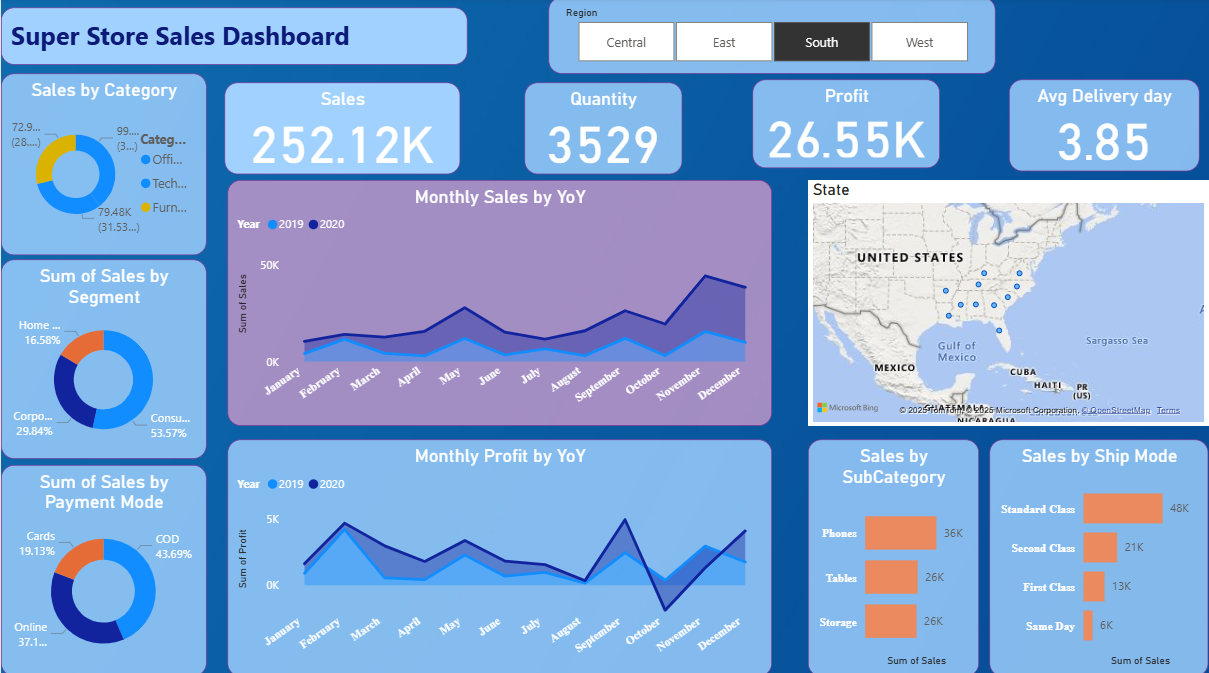

This screenshot's page, from the dashboard's own definition file:
{"tool":"powerbi","page":{"name":"Page 1","canvas":[1280,720],"ordinal":0},"visuals":[{"type":"donutChart","title":" Sales by Category","fields":{"Category":["SuperStore_Sales_Dataset (1).Category"],"Y":["Sum(SuperStore_Sales_Dataset (1).Sales)"]},"box":[0,81.1,217.9,192.5],"z":0},{"type":"clusteredBarChart","title":"Sales by SubCategory","fields":{"Category":["SuperStore_Sales_Dataset (1).Sub-Category","SuperStore_Sales_Dataset (1).Category"],"Y":["Sum(SuperStore_Sales_Dataset (1).Sales)"]},"box":[855.7,469.2,181.3,251.3],"z":1000},{"type":"clusteredBarChart","title":"Sales by Ship Mode","fields":{"Category":["SuperStore_Sales_Dataset (1).Ship Mode","SuperStore_Sales_Dataset (1).Sub-Category"],"Y":["Sum(SuperStore_Sales_Dataset (1).Sales)"]},"box":[1048.2,469.2,232.2,251.3],"z":2000},{"type":"stackedAreaChart","title":"Monthly Sales by YoY","fields":{"Y":["Sum(SuperStore_Sales_Dataset (1).Sales)"],"Series":["SuperStore_Sales_Dataset (1).Order Date.Variation.Date Hierarchy.Year"],"Category":["SuperStore_Sales_Dataset (1).Order Date.Variation.Date Hierarchy.Month","SuperStore_Sales_Dataset (1).Order Date.Variation.Date Hierarchy.Day"]},"box":[240.2,194.1,577.4,260.9],"z":3000},{"type":"stackedAreaChart","title":"Monthly Profit by YoY","fields":{"Series":["SuperStore_Sales_Dataset (1).Order Date.Variation.Date Hierarchy.Year"],"Category":["SuperStore_Sales_Dataset (1).Order Date.Variation.Date Hierarchy.Month","SuperStore_Sales_Dataset (1).Order Date.Variation.Date Hierarchy.Day"],"Y":["Sum(SuperStore_Sales_Dataset (1).Profit)"]},"box":[240.2,469.2,577.4,251.3],"z":4000},{"type":"donutChart","fields":{"Category":["SuperStore_Sales_Dataset (1).Segment"],"Y":["Sum(SuperStore_Sales_Dataset (1).Sales)"]},"box":[0,278.4,217.9,211.6],"z":5000},{"type":"donutChart","fields":{"Category":["SuperStore_Sales_Dataset (1).Payment Mode"],"Y":["Sum(SuperStore_Sales_Dataset (1).Sales)"]},"box":[0,496.3,217.9,224.3],"z":6000},{"type":"slicer","fields":{"Values":["SuperStore_Sales_Dataset (1).Region"]},"box":[580.6,0,474,81.1],"z":7000},{"type":"textbox","box":[0,11.1,494.7,60.4],"z":8000},{"type":"card","title":"Sales","fields":{"Values":["Sum(SuperStore_Sales_Dataset (1).Sales)"]},"box":[237,90.7,249.7,97],"z":9000},{"type":"card","title":"Quantity","fields":{"Values":["Sum(SuperStore_Sales_Dataset (1).Quantity)"]},"box":[555.1,90.7,167,97],"z":10000},{"type":"card","title":"Profit","fields":{"Values":["Sum(SuperStore_Sales_Dataset (1).Profit)"]},"box":[796.9,87.5,198.8,93.8],"z":11000},{"type":"card","title":"Avg Delivery day","fields":{"Values":["Avg(SuperStore_Sales_Dataset (1).AvgDelivery)"]},"box":[1068.9,87.5,202,97],"z":12000},{"type":"map","fields":{"Category":["SuperStore_Sales_Dataset (1).State"],"Size":["select"]},"box":[855.7,194.1,424.7,260.9],"z":12001}]}

Visuals, with their boxes in screenshot pixels (x1, y1, x2, y2), scaled from the page's 1280x720 canvas onto the 1209x673 screenshot:
" Sales by Category" donutChart: (left=0, top=76, right=206, bottom=256)
"Sales by SubCategory" clusteredBarChart: (left=808, top=439, right=979, bottom=672)
"Sales by Ship Mode" clusteredBarChart: (left=990, top=439, right=1208, bottom=672)
"Monthly Sales by YoY" stackedAreaChart: (left=227, top=181, right=772, bottom=425)
"Monthly Profit by YoY" stackedAreaChart: (left=227, top=439, right=772, bottom=672)
donutChart - SuperStore_Sales_Dataset (1).Segment x Sum(SuperStore_Sales_Dataset (1).Sales): (left=0, top=260, right=206, bottom=458)
donutChart - SuperStore_Sales_Dataset (1).Payment Mode x Sum(SuperStore_Sales_Dataset (1).Sales): (left=0, top=464, right=206, bottom=672)
slicer - SuperStore_Sales_Dataset (1).Region: (left=548, top=0, right=996, bottom=76)
textbox: (left=0, top=10, right=467, bottom=67)
"Sales" card: (left=224, top=85, right=460, bottom=175)
"Quantity" card: (left=524, top=85, right=682, bottom=175)
"Profit" card: (left=753, top=82, right=940, bottom=169)
"Avg Delivery day" card: (left=1010, top=82, right=1200, bottom=172)
map - SuperStore_Sales_Dataset (1).State x select: (left=808, top=181, right=1208, bottom=425)
